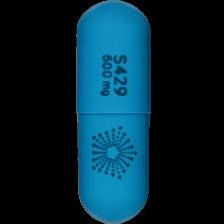54092-191: (0, 0, 224, 224)
